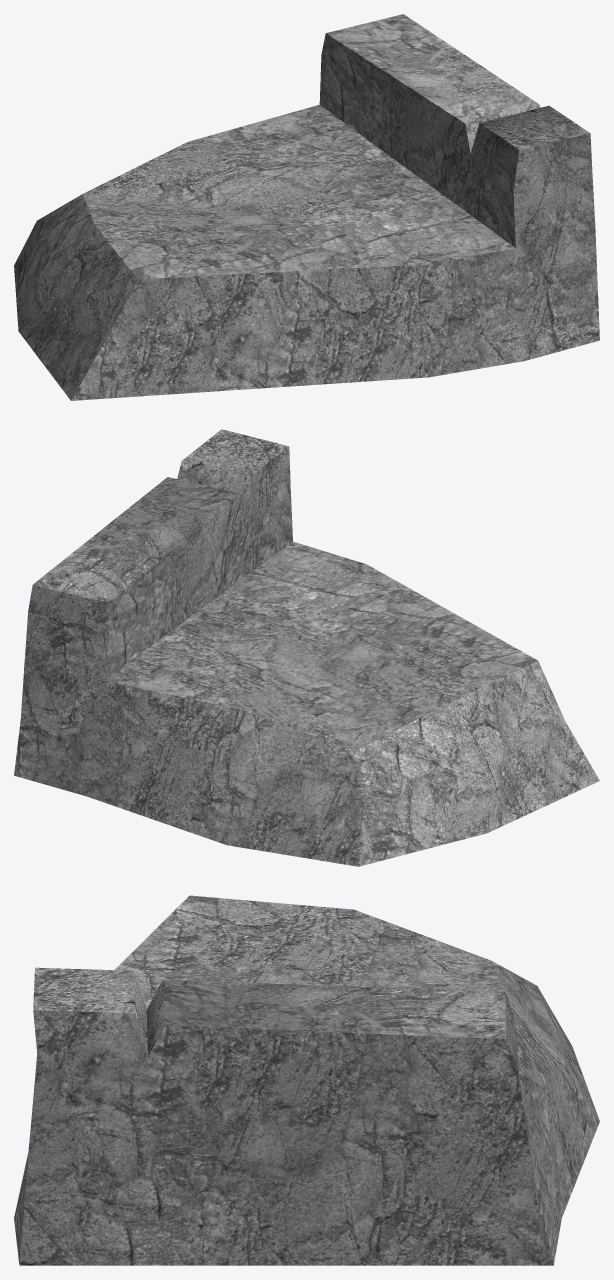
The model's file is materials_3_rubble_9.fbx.
The picture shows the model from 3 angles, top to bottom: view 1: azimuth 30°, elevation 25°; view 2: azimuth 150°, elevation 25°; view 3: azimuth 270°, elevation 25°; orthographic projection. The views are drawn at different scales.
Parts seen in each view (by area): view 1: materials_3_rubble_9; view 2: materials_3_rubble_9; view 3: materials_3_rubble_9.
Part boxes in pixels (x1,y1,x2,y2): materials_3_rubble_9: [14, 14, 599, 400]; materials_3_rubble_9: [14, 429, 599, 866]; materials_3_rubble_9: [14, 895, 599, 1265].
Size of the model in its own units: 134 by 56.81 by 119.
